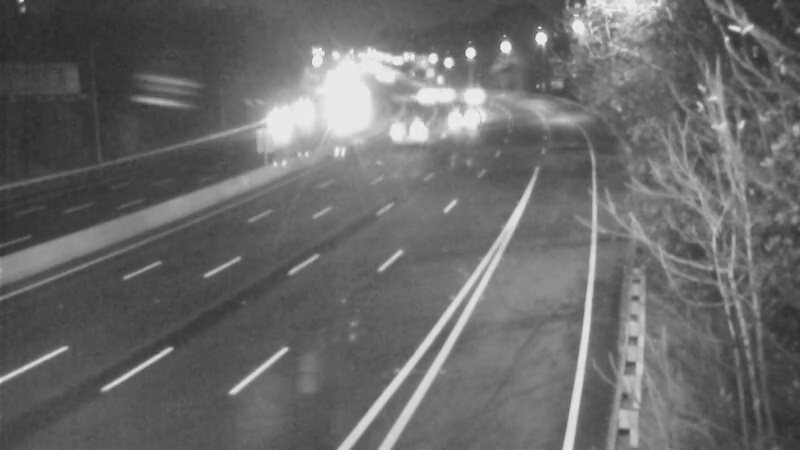vehicle: (444, 65, 494, 115), (419, 70, 469, 120), (399, 70, 449, 120), (437, 92, 487, 142), (397, 102, 447, 152), (257, 97, 307, 147), (278, 86, 328, 136)
